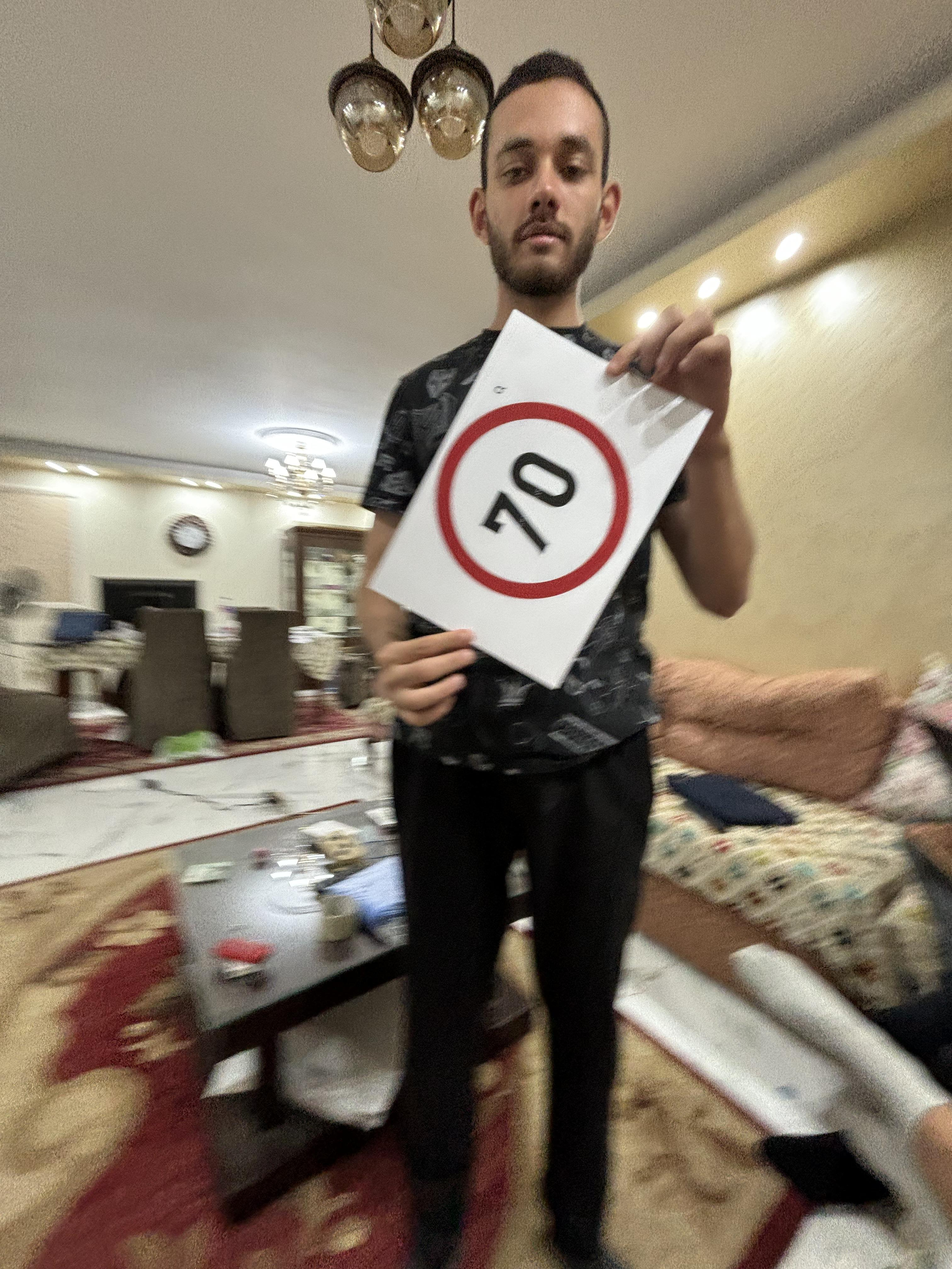70-Speed: (432, 397, 631, 591)
